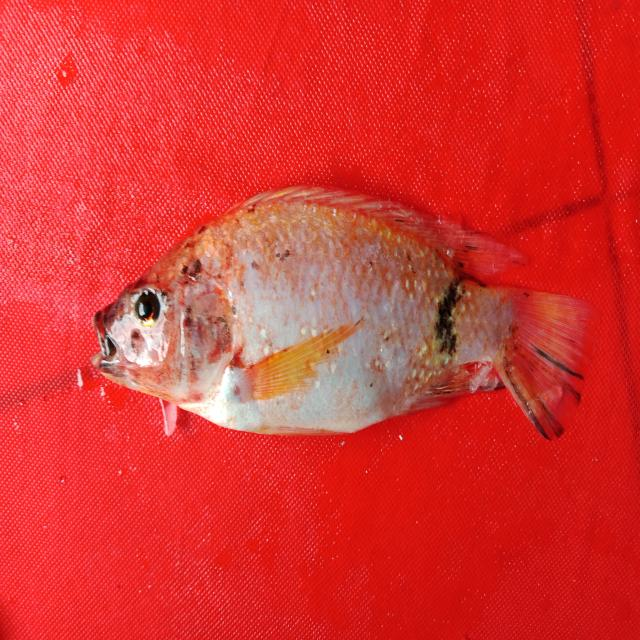ikan: (70, 174, 604, 462)
